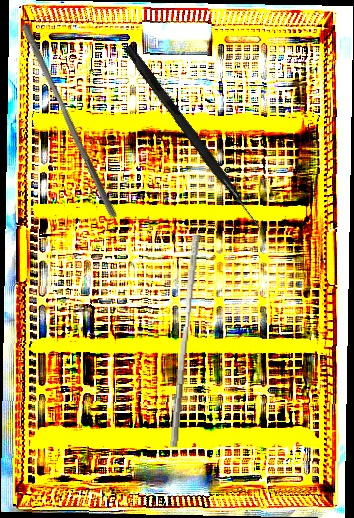Hook Surgical: (121, 44, 270, 236)
Pusher: (14, 22, 125, 220), (170, 234, 201, 448)
